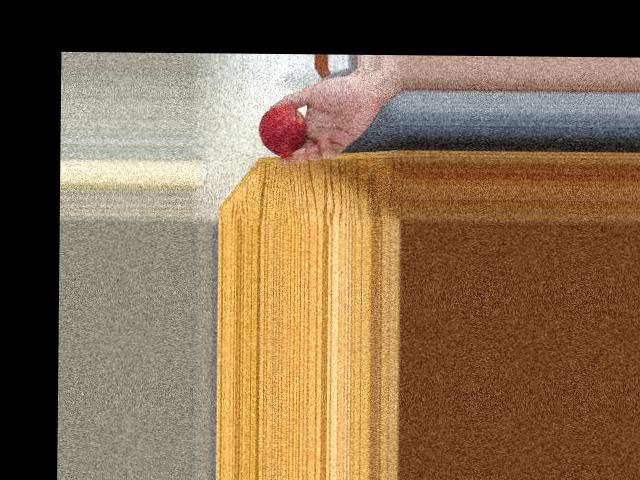apple: (255, 105, 308, 155)
